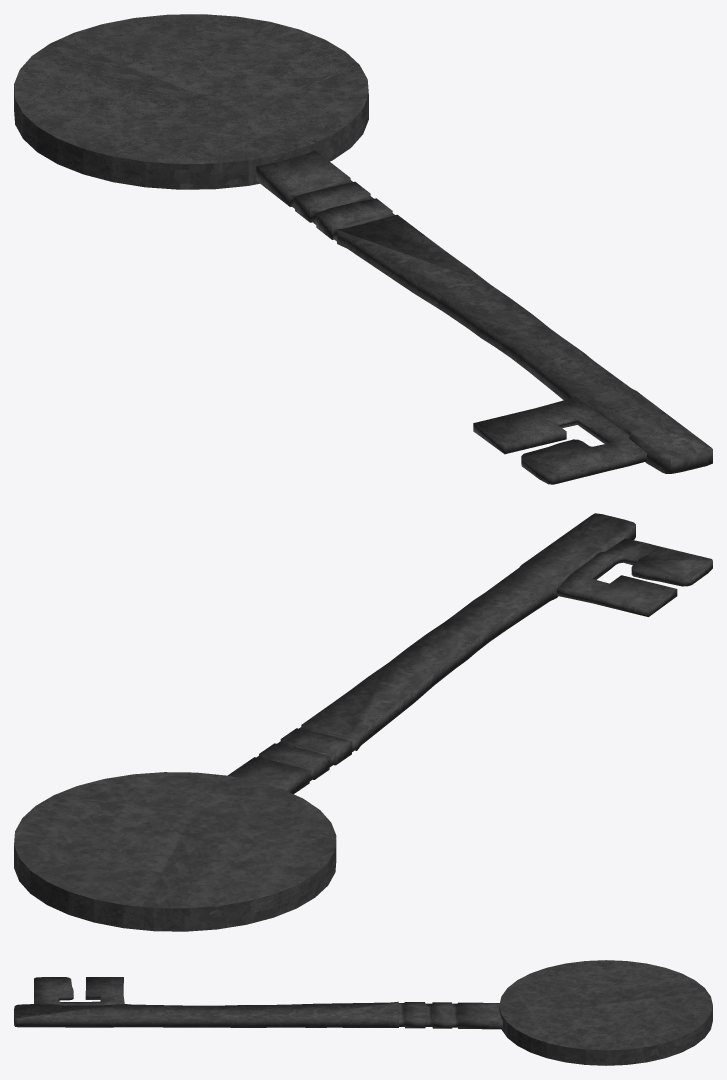
File: emblem3 1.fbx
3 renders of one model, top to bottom at view 1: azimuth 30°, elevation 25°; view 2: azimuth 150°, elevation 25°; view 3: azimuth 270°, elevation 25°, orthographic. The views are drawn at different scales.
Visible parts, largest first — view 1: emblematy; view 2: emblematy; view 3: emblematy.
Boxes of the visible parts, box(x1,y1,x2,y2) form: emblematy: box(14, 14, 712, 484); emblematy: box(14, 513, 712, 931); emblematy: box(14, 960, 712, 1065).
Size of the model in its own units: 18.35 by 1.46 by 60.02.
